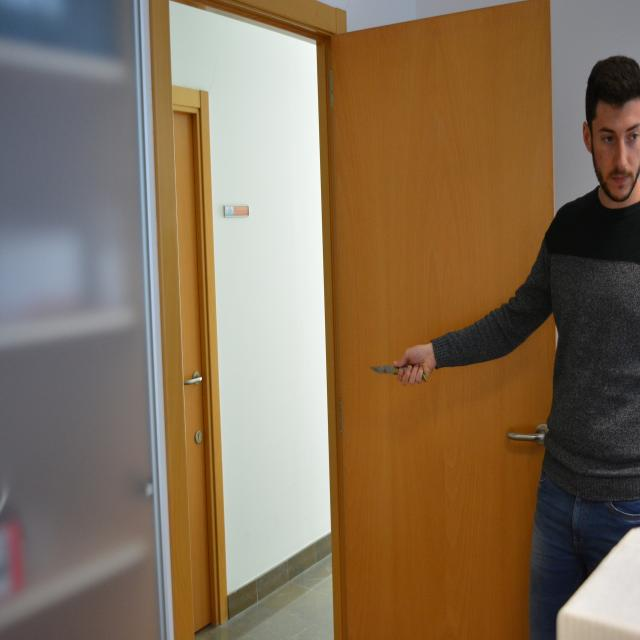knife: (369, 364, 399, 378)
